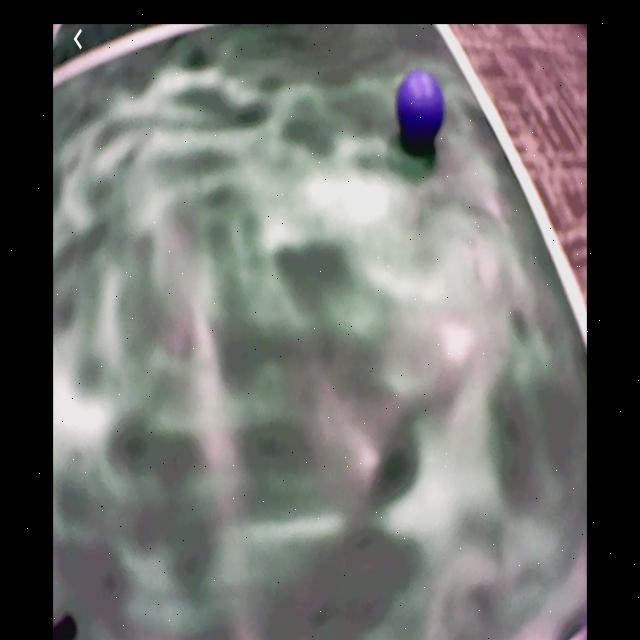ball: (397, 72, 446, 144)
